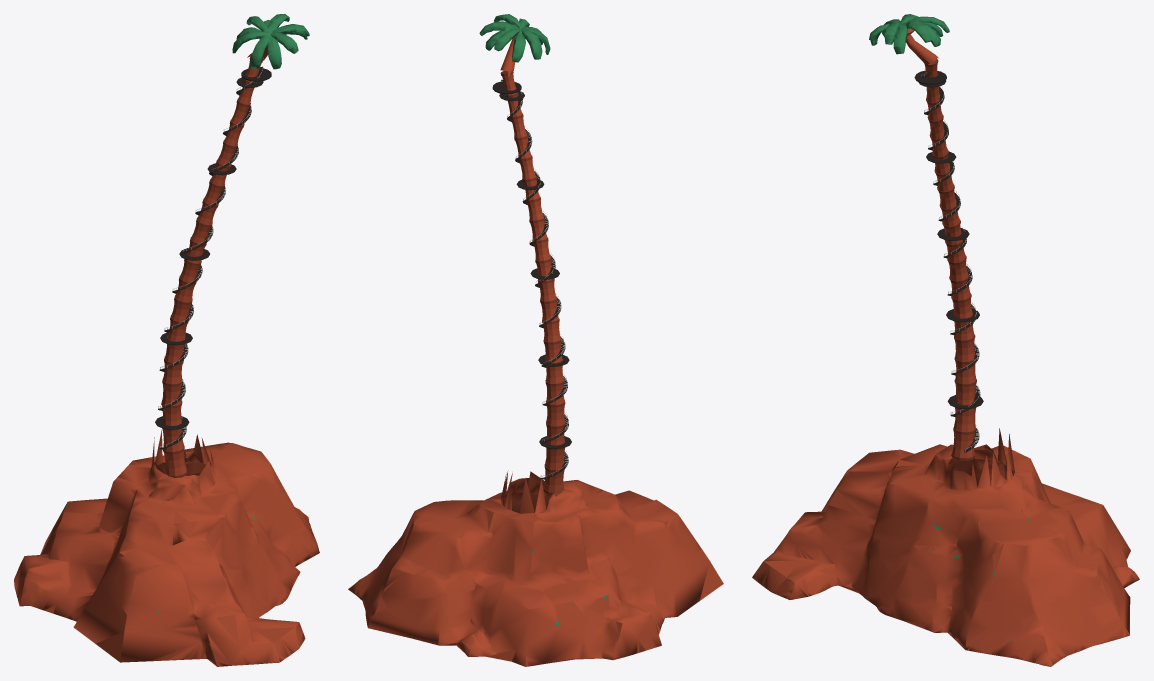
File: colossal_palm.glb
The picture shows the model from 3 angles, left to right: view 1: azimuth 30°, elevation 25°; view 2: azimuth 150°, elevation 25°; view 3: azimuth 270°, elevation 25°; orthographic projection. The views are drawn at different scales.
Visible parts, largest first — view 1: colossal_palm; view 2: colossal_palm; view 3: colossal_palm.
Boxes of the visible parts, bbox=[...] form: colossal_palm: bbox=[14, 14, 319, 666]; colossal_palm: bbox=[348, 14, 723, 666]; colossal_palm: bbox=[752, 14, 1139, 666].
Bounding box in the file's own units: 115 × 204 × 120.
Materials: 5 (1 with a texture image).
